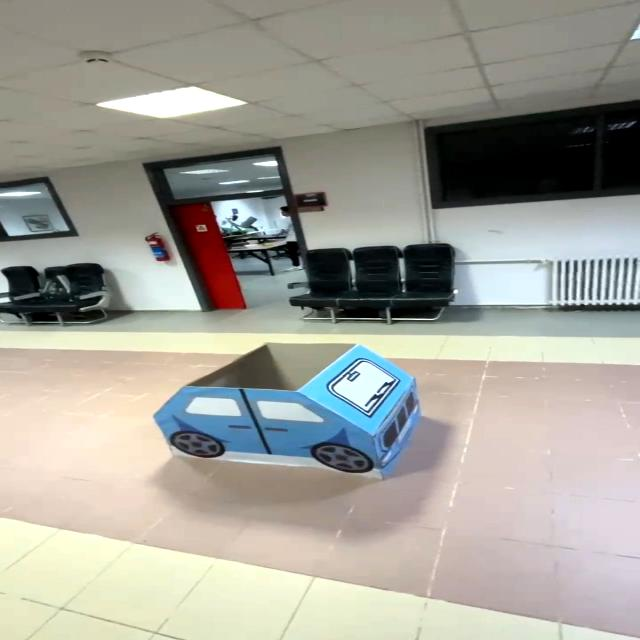blue_car: (115, 331, 441, 495)
